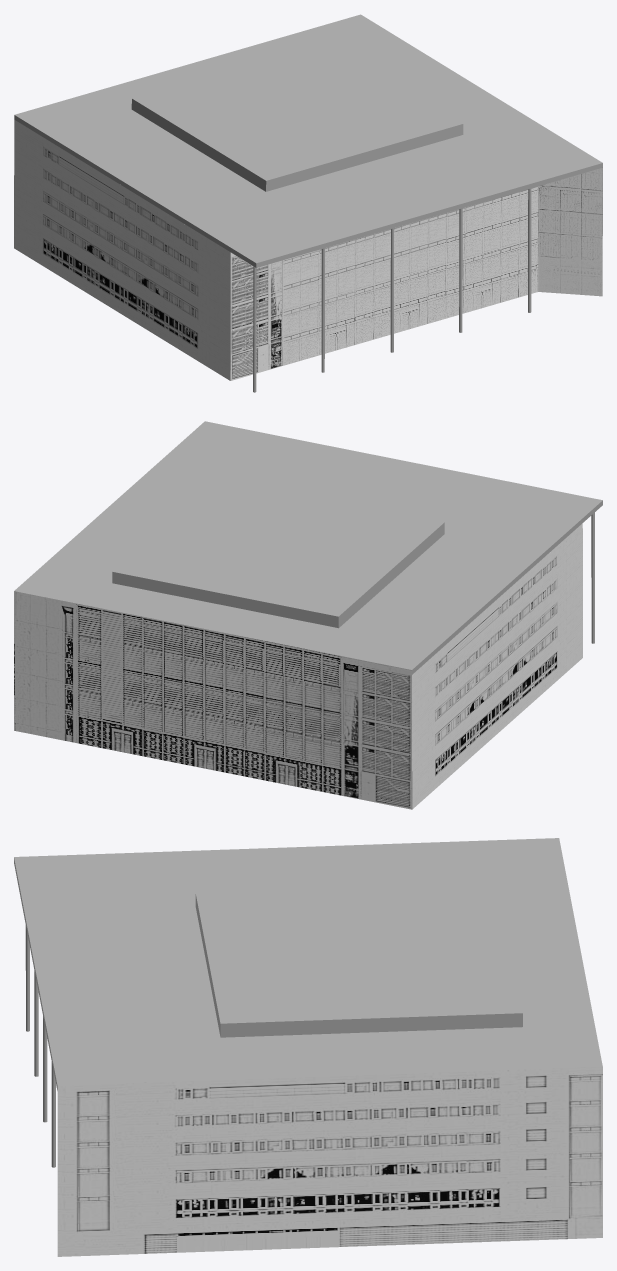
Rendered from hoersaalzentrum.gltf.
The picture shows the model from 3 angles, top to bottom: view 1: azimuth 30°, elevation 25°; view 2: azimuth 150°, elevation 25°; view 3: azimuth 270°, elevation 25°; orthographic projection. The views are drawn at different scales.
Visible parts, largest first — view 1: Dach.1; view 2: Dach.1; view 3: Dach.1.
Boxes of the visible parts, bbox=[...] form: Dach.1: bbox=[14, 14, 602, 392]; Dach.1: bbox=[14, 421, 602, 809]; Dach.1: bbox=[14, 838, 602, 1256].
Size of the model in its own units: 65.59 by 23.13 by 66.21.
Materials: 7 (6 with a texture image).
